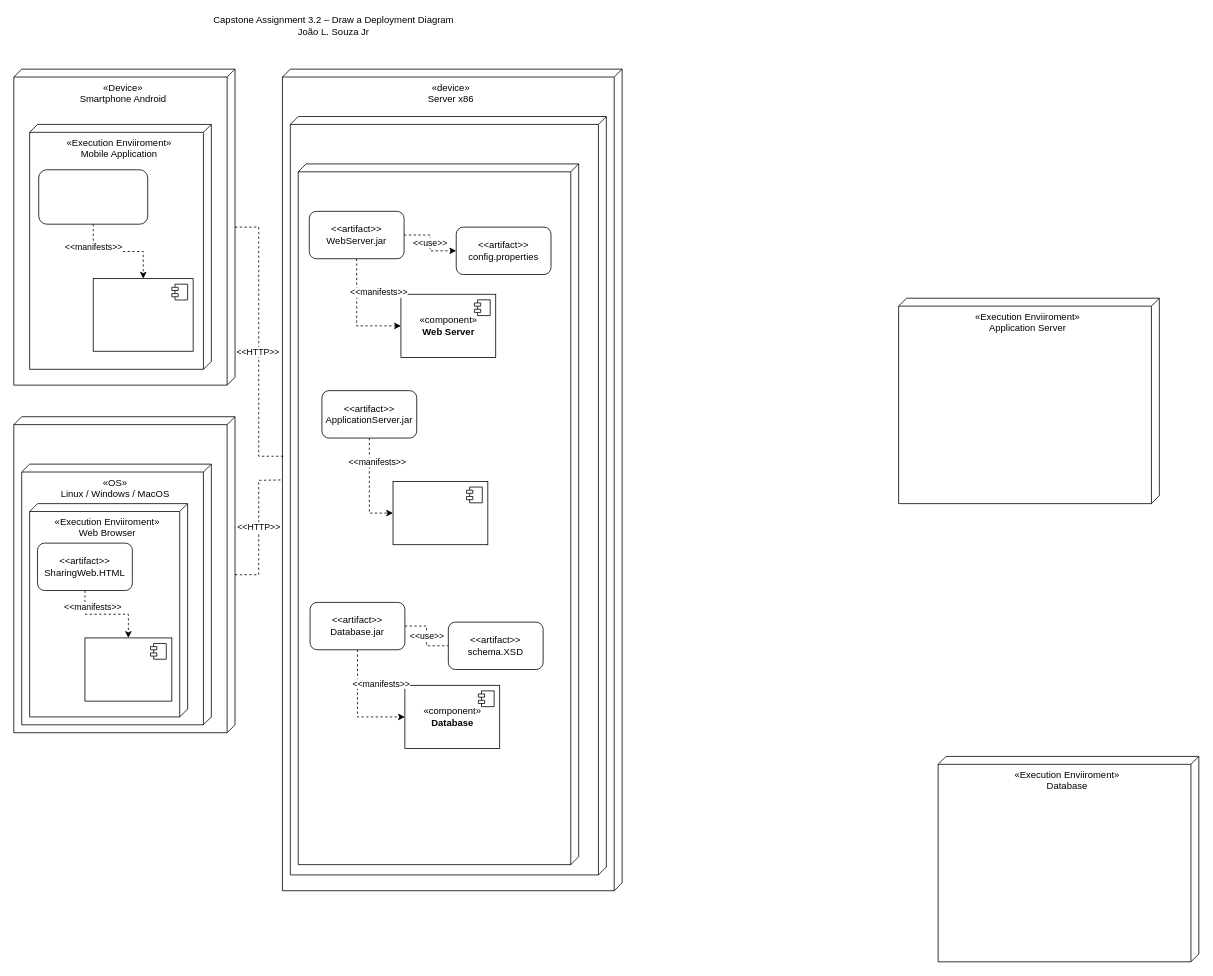
Some shapes in this 1213 by 976 pixel diagram are drawn without their labels. The box of each missing label's shape, as (x1, y1, x2, y2) in pixels:
<<artifact>> SharingMobile.APK: (38, 169, 148, 224)
«component» Application Server: (392, 481, 488, 545)
«component» Mobile Application: (92, 278, 193, 351)
«component» Web Application: (84, 637, 172, 701)
«Device» Computer x86: (13, 416, 235, 733)
«Execution Enviiroment» Web Server: (297, 163, 579, 865)
«OS» Linux: (290, 116, 606, 875)
